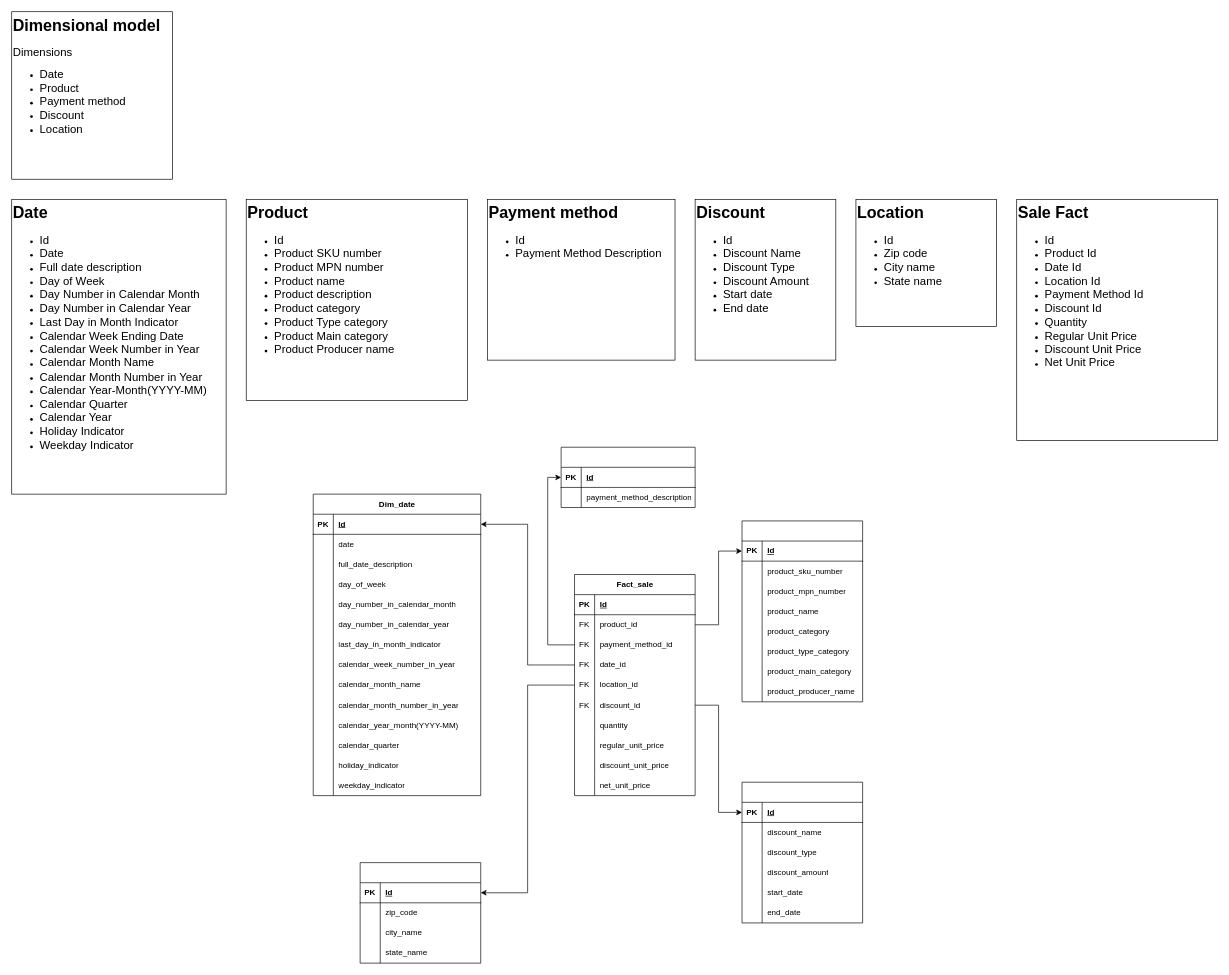
Image size: 1229x975. Some labels were removed from this diagram. The box of each missing label's shape, as (x1, y1, x2, y2) in pixels:
Dim_discount: (741, 782, 863, 923)
Dim_location: (359, 862, 481, 963)
Dim_payment_method: (560, 447, 695, 508)
Dim_product: (741, 520, 863, 702)
